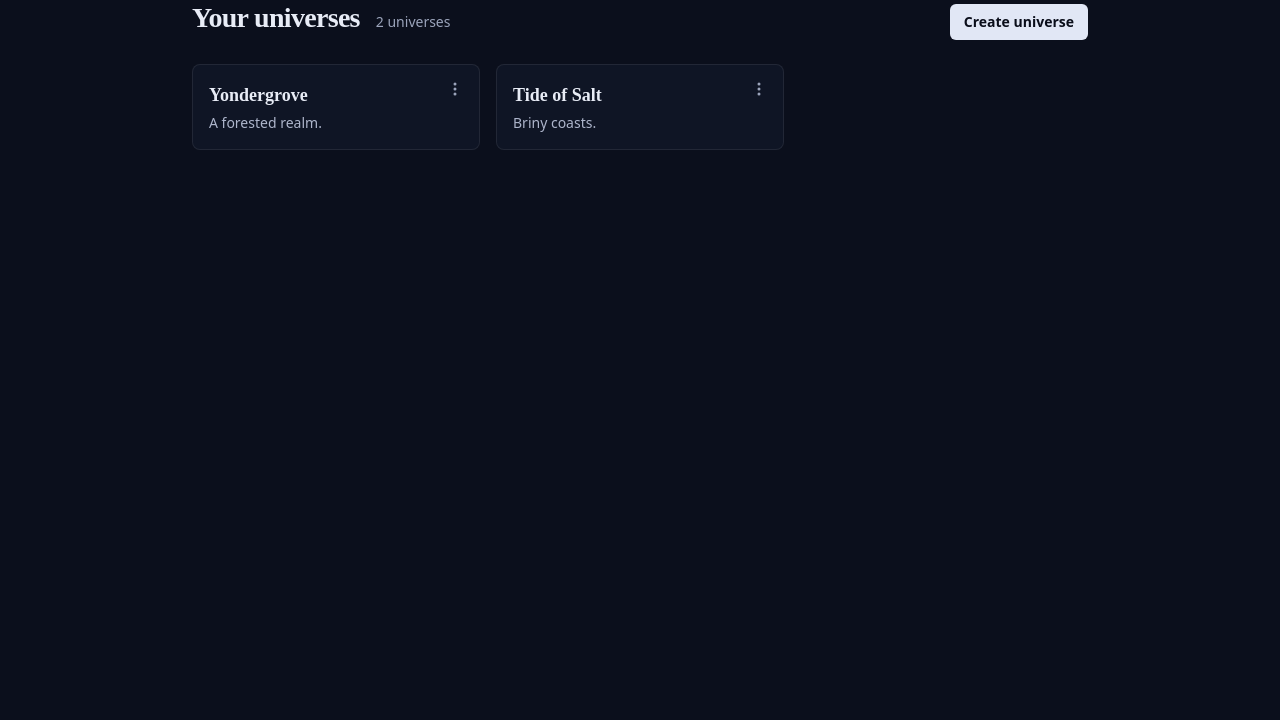
Test: UniverseList view › renders an error toast when DELETE returns 500 (Test F)
Expected: the heading "Yondergrove" is shown, [209, 85, 308, 105]
Click the button named "actions for yondergrove": (455, 89) [439, 73, 471, 105]
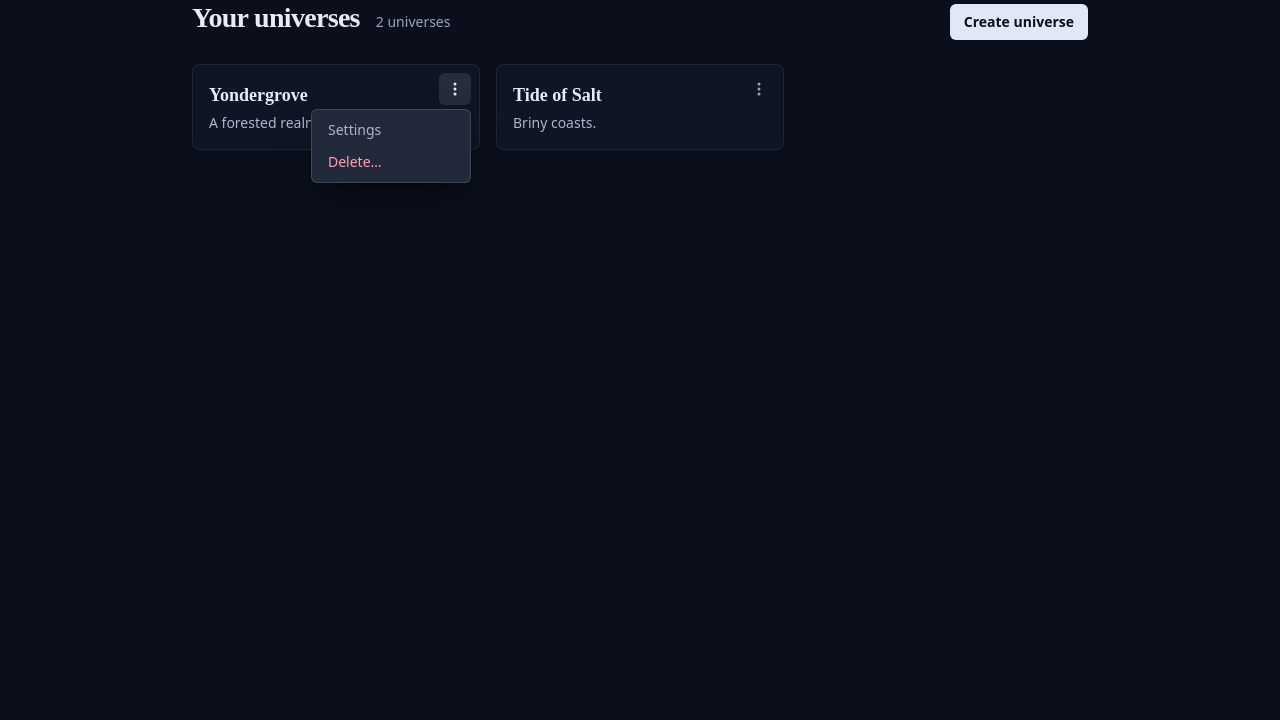
Click the menu item "Delete…": (355, 162) [328, 152, 382, 171]
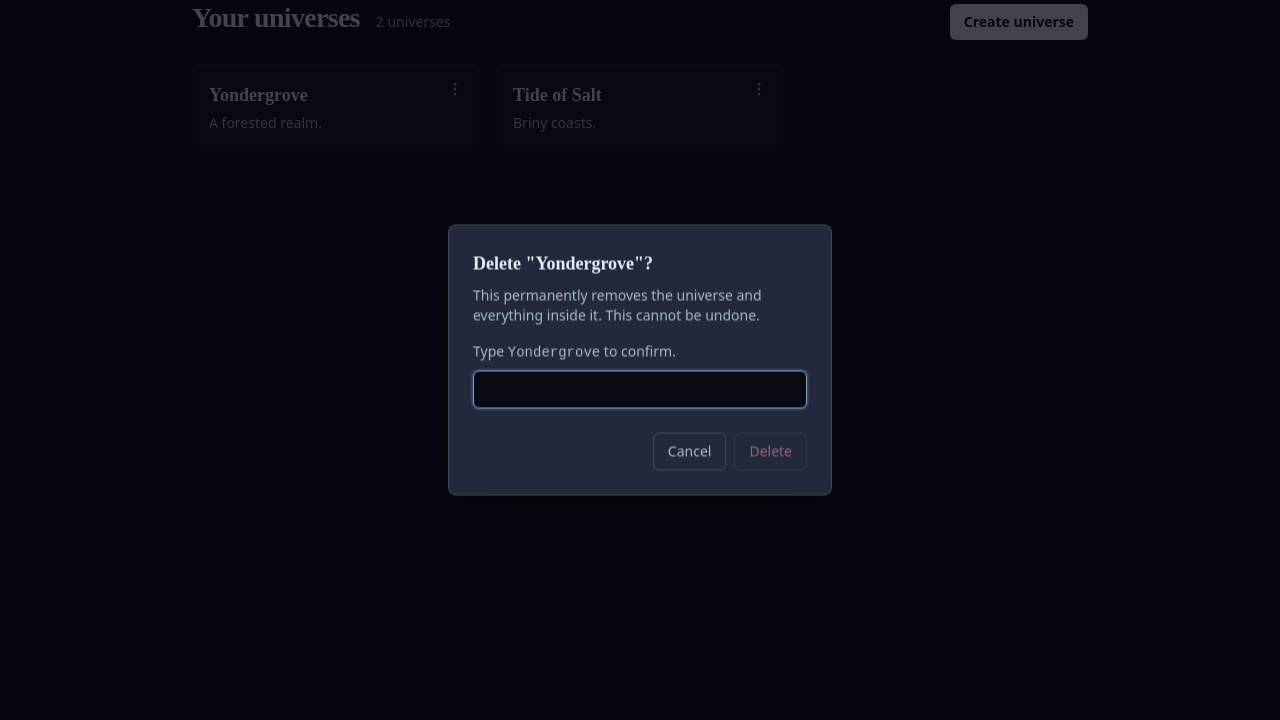
In the field named "type universe name to confirm deletion": (640, 390) [473, 370, 807, 408], type "Yondergrove"
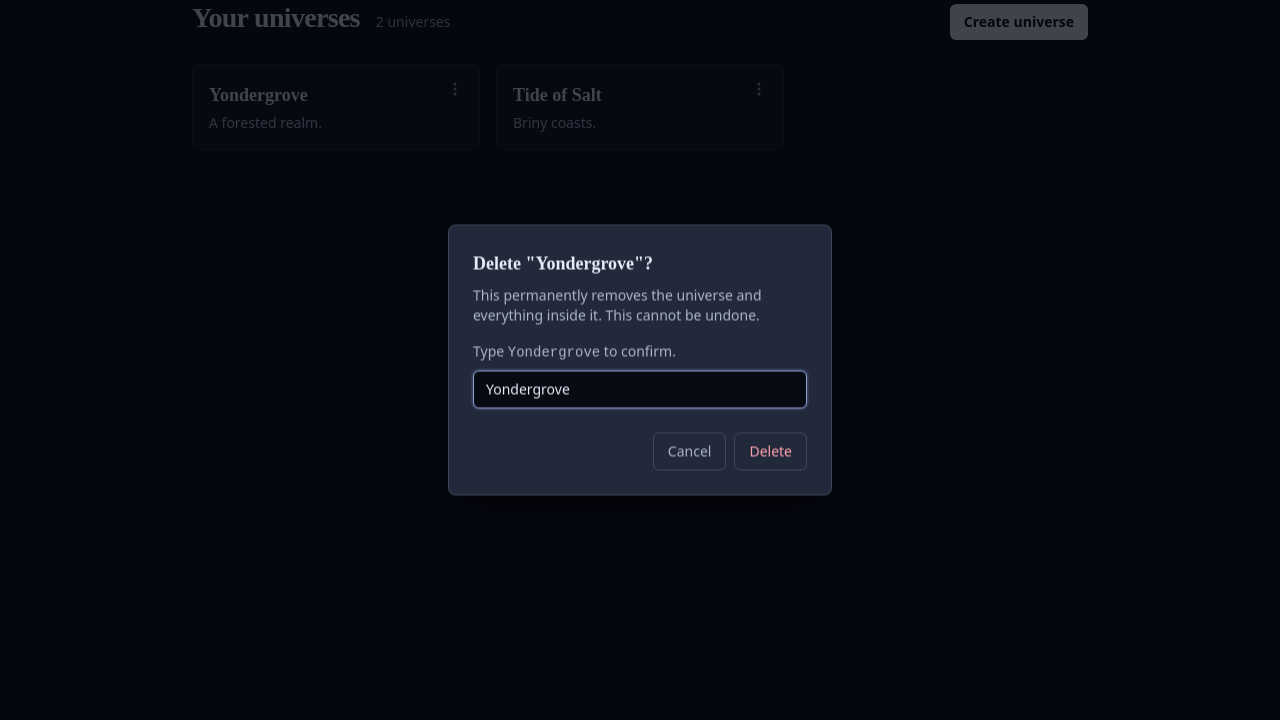
Click the button "Delete": (771, 452) [734, 432, 807, 470]
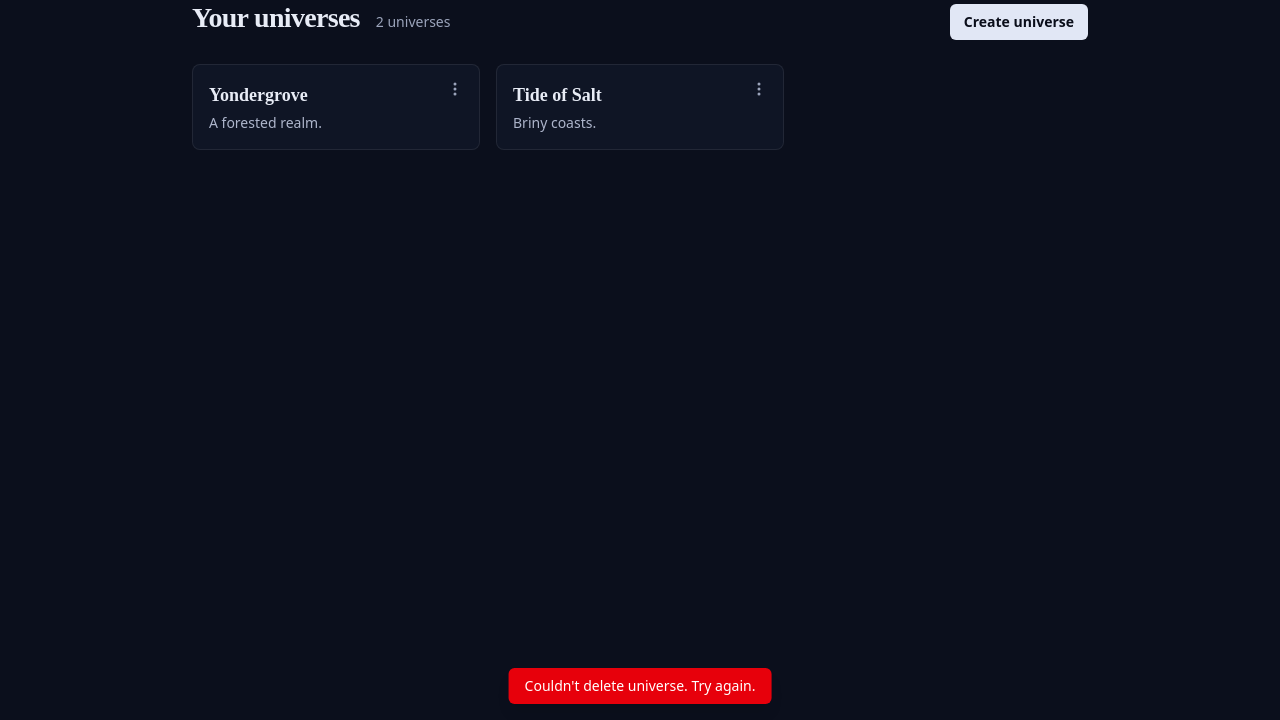
Expected: the text "Couldn't delete universe. Try again." is shown, [509, 668, 771, 704]
